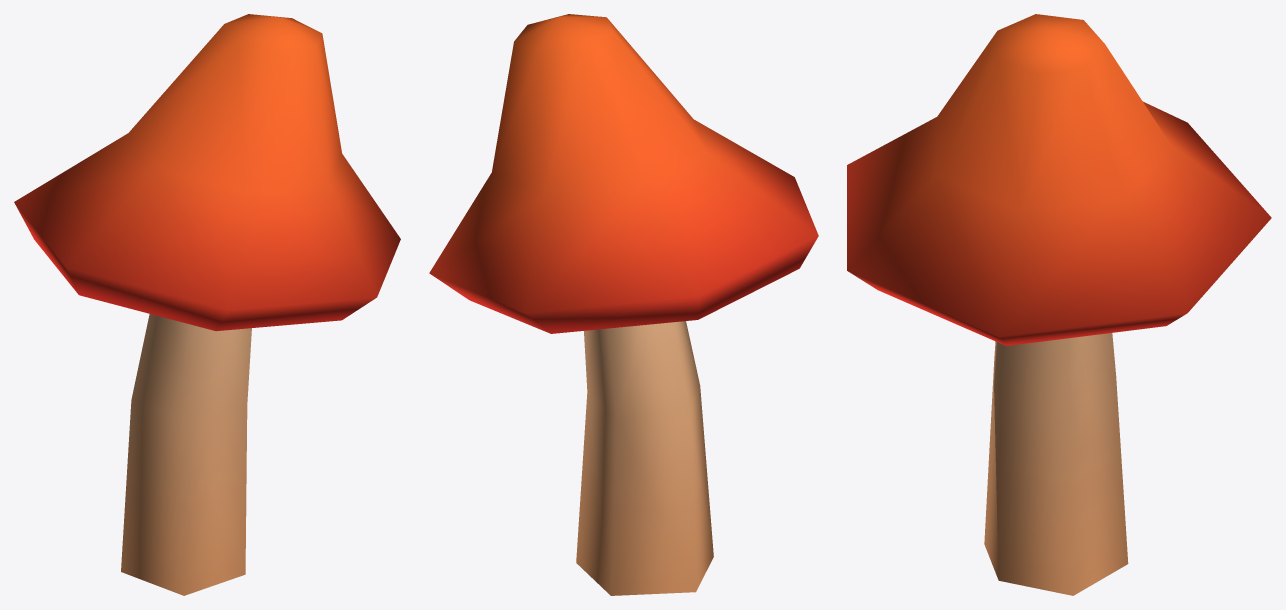
File: mushroom.obj
The picture shows the model from 3 angles, left to right: view 1: azimuth 30°, elevation 25°; view 2: azimuth 150°, elevation 25°; view 3: azimuth 270°, elevation 25°; orthographic projection. The views are drawn at different scales.
Parts seen in each view (by area): view 1: mushroom; view 2: mushroom; view 3: mushroom.
Part boxes in pixels (bbox=[...]): mushroom: bbox=[14, 14, 400, 595]; mushroom: bbox=[429, 14, 818, 595]; mushroom: bbox=[847, 14, 1271, 595].
Bounding box in the file's own units: 4.79 × 7.22 × 4.8.
